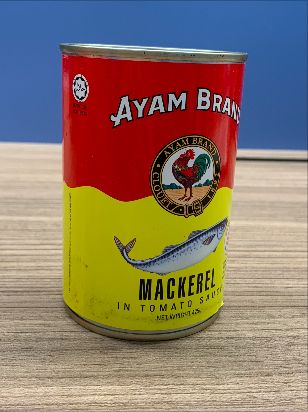Sardines_400-499g: (71, 64, 226, 323)
